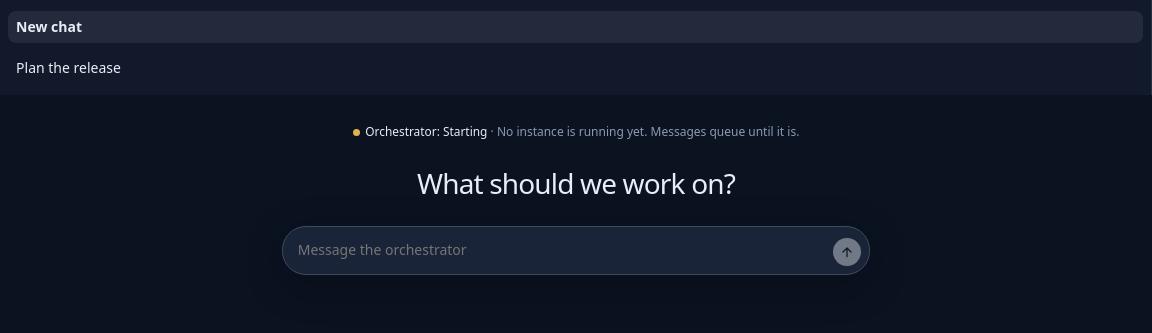
Scenario: Chat orchestrator status › also shows in an open thread
Step 1. Click the button "Plan the release" → (68, 68), box [8,52,1143,85]
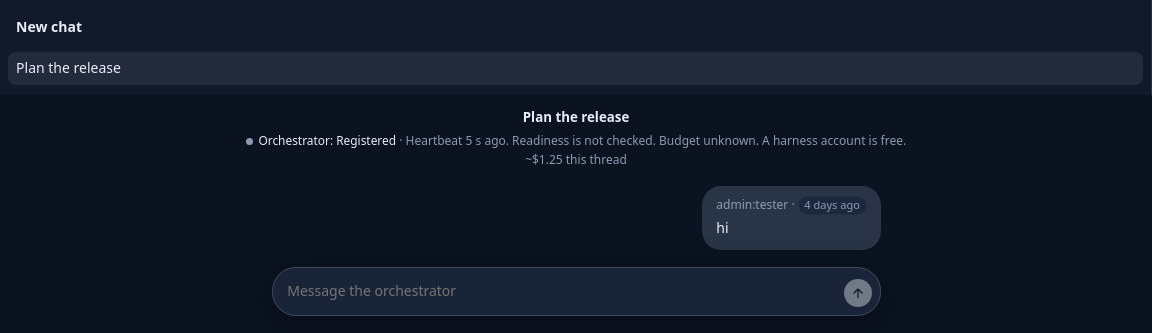
Now the text "hi" is shown, box [716,218,729,238]
Now the message shows "Orchestrator: Registered", box [246,132,906,149]
